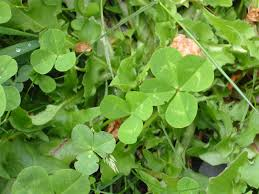4-clover: (140, 48, 212, 127)
